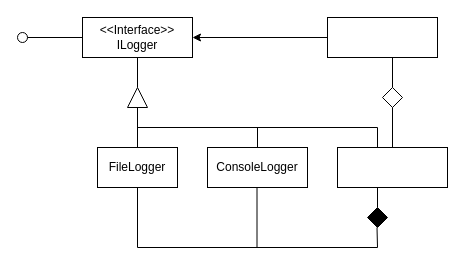
Image size: 465x266. Some labels were removed from this diagram. The shapes that lost their labels are listed below. From the top down, each one's centre as x and y in pixels, then its label:
At point 382,37: "LoggerFactory".
At point 392,167: "LoggerManager".
